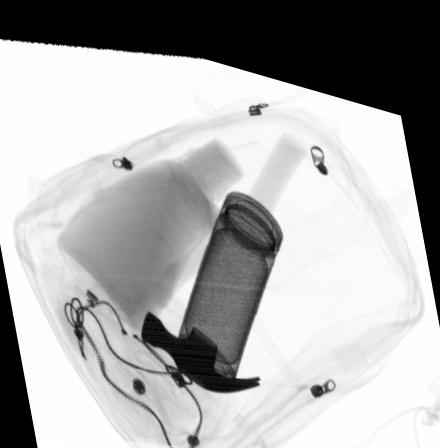Hammer: (139, 113, 308, 383)
